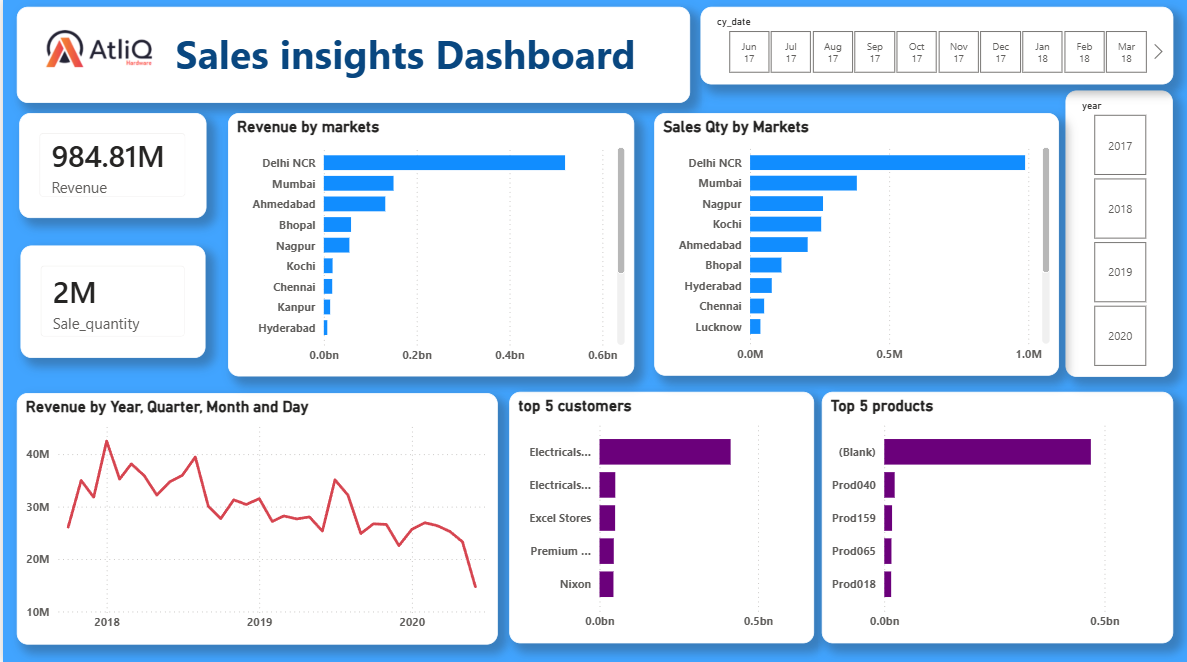

This screenshot's page, from the dashboard's own definition file:
{"tool":"powerbi","page":{"name":"Page 1","canvas":[1303,850],"ordinal":0},"visuals":[{"type":"cardVisual","fields":{"Data":["base measures.Revenue"]},"box":[0,0,245.4,157.4],"z":0},{"type":"cardVisual","fields":{"Data":["base measures.Sale_quantity"]},"box":[220.9,0,212.2,157.4],"z":1000},{"type":"barChart","title":"Revenue by markets","fields":{"Y":["base measures.Revenue"],"Category":["sales markets.markets_name"]},"box":[0,157.4,220.9,692.9],"z":2000},{"type":"barChart","title":"Sales Qty by Markets","fields":{"Y":["base measures.Sale_quantity"],"Category":["sales markets.markets_name"]},"box":[259.9,157.4,284.4,692.9],"z":3000},{"type":"slicer","fields":{"Values":["sales date.year"]},"box":[417.2,0,424.4,89.5],"z":4000},{"type":"slicer","fields":{"Values":["sales date.cy_date"]},"box":[822.9,0,480.7,89.5],"z":5000},{"type":"barChart","title":"top 5 customers ","fields":{"Category":["sales customers.custmer_name"],"Y":["base measures.Revenue"]},"box":[544.2,503.8,394.1,317.6],"z":5001},{"type":"barChart","title":"top 5 products  ","fields":{"Y":["base measures.Revenue"],"Category":["sales products.product_code"]},"box":[954.2,503.8,349.4,317.6],"z":5002},{"type":"lineChart","fields":{"Y":["base measures.Revenue"],"Category":["sales date.cy_date.Variation.Date Hierarchy.Year","sales date.cy_date.Variation.Date Hierarchy.Quarter","sales date.cy_date.Variation.Date Hierarchy.Month","sales date.cy_date.Variation.Date Hierarchy.Day"]},"box":[565.9,129.9,720.4,294.5],"z":5003}]}

Visuals, with their boxes on the page's 1303x850 design canvas (x1, y1, x2, y2). These are canvas units, not pixel positions in the 1187x662 screenshot, which may show the page scaled, cropped or inside an application window:
cardVisual - base measures.Revenue: box(0, 0, 245, 157)
cardVisual - base measures.Sale_quantity: box(221, 0, 433, 157)
"Revenue by markets" barChart: box(0, 157, 221, 850)
"Sales Qty by Markets" barChart: box(260, 157, 544, 850)
slicer - sales date.year: box(417, 0, 842, 90)
slicer - sales date.cy_date: box(823, 0, 1304, 90)
"top 5 customers " barChart: box(544, 504, 938, 821)
"top 5 products  " barChart: box(954, 504, 1304, 821)
lineChart - base measures.Revenue x sales date.cy_date.Variation.Date Hierarchy.Year: box(566, 130, 1286, 424)
